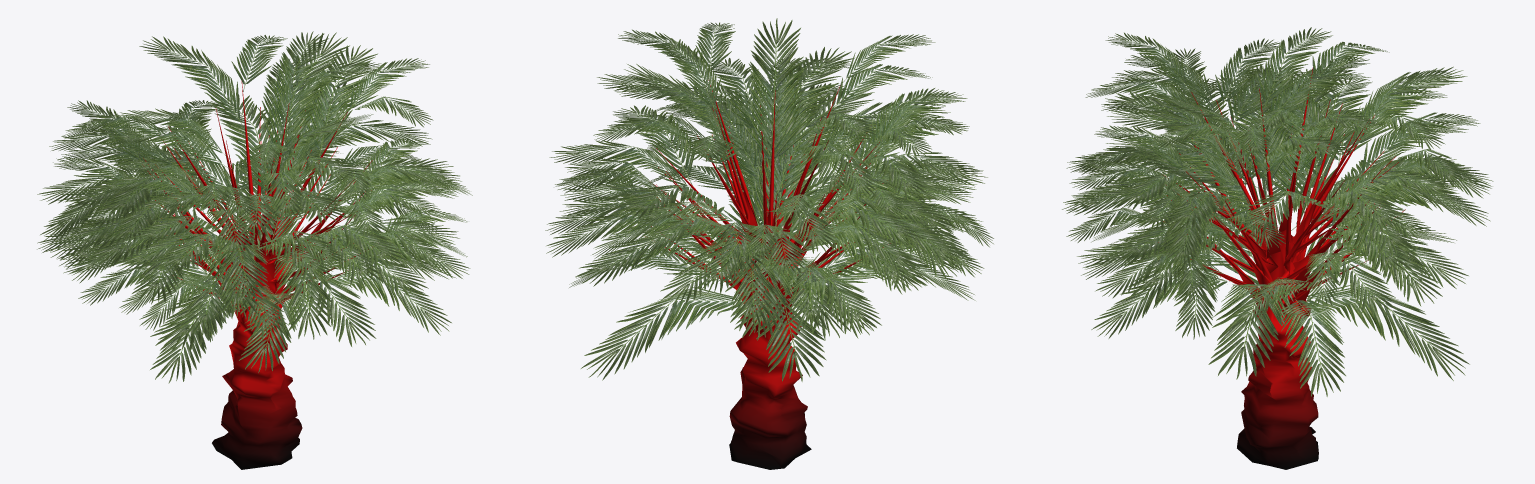
Rendered from Palm_3_9.fbx.
3 renders of one model, left to right at view 1: azimuth 30°, elevation 25°; view 2: azimuth 150°, elevation 25°; view 3: azimuth 270°, elevation 25°, orthographic. The views are drawn at different scales.
Visible parts, largest first — view 1: Palm_3_9; view 2: Palm_3_9; view 3: Palm_3_9.
Part boxes in pixels (x1,y1,x2,y2): Palm_3_9: (37,31,472,469); Palm_3_9: (545,18,993,469); Palm_3_9: (1062,27,1493,469).
Size of the model in its own units: 4459 by 3862 by 4356.
